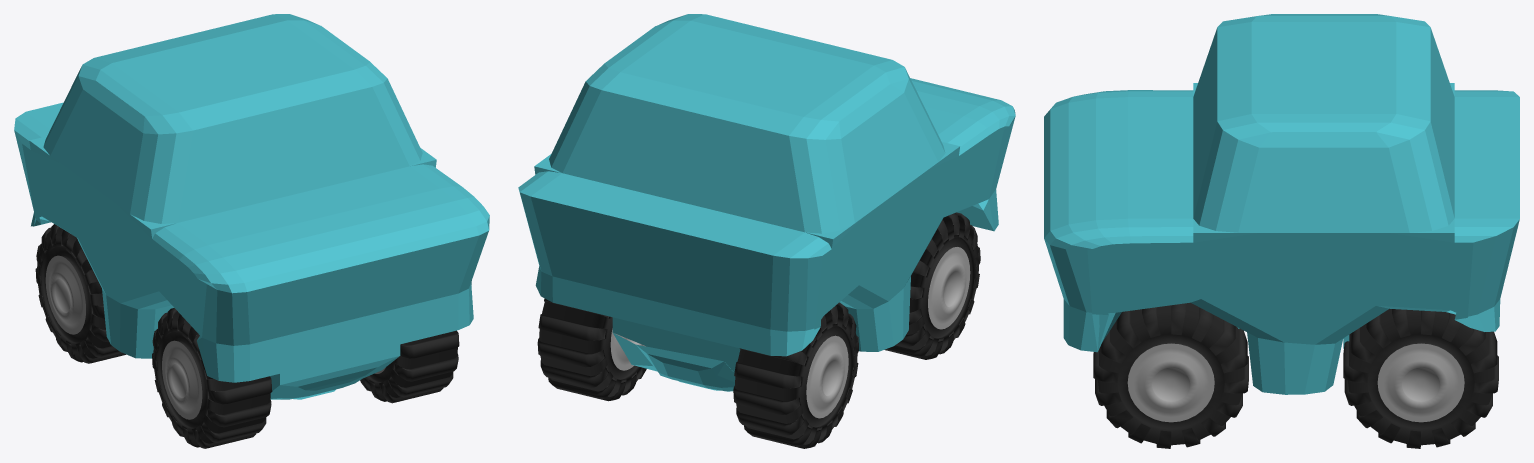
File: vehicle1_v.0.1.gltf
3 views of the same model, side by side, from view 1: azimuth 30°, elevation 25°; view 2: azimuth 150°, elevation 25°; view 3: azimuth 270°, elevation 25° (orthographic). The views are drawn at different scales.
Visible parts, largest first — view 1: Cube, Cylinder.004, Cylinder.005, Cylinder; view 2: Cube, Cylinder.005, Cylinder.004, Cylinder.001; view 3: Cube, Cylinder, Cylinder.001.
Part boxes in pixels (box(x1,y1,x2,y2)): Cube: box(14, 14, 489, 399); Cylinder.004: box(152, 308, 272, 448); Cylinder.005: box(35, 224, 125, 363); Cylinder: box(360, 330, 459, 403); Cube: box(518, 14, 1015, 391); Cylinder.005: box(733, 302, 858, 448); Cylinder.004: box(884, 212, 980, 359); Cylinder.001: box(537, 298, 646, 401); Cube: box(1044, 14, 1519, 394); Cylinder: box(1093, 302, 1248, 448); Cylinder.001: box(1343, 308, 1498, 448).
Size of the model in its own units: 3.98 by 3.96 by 5.34.
